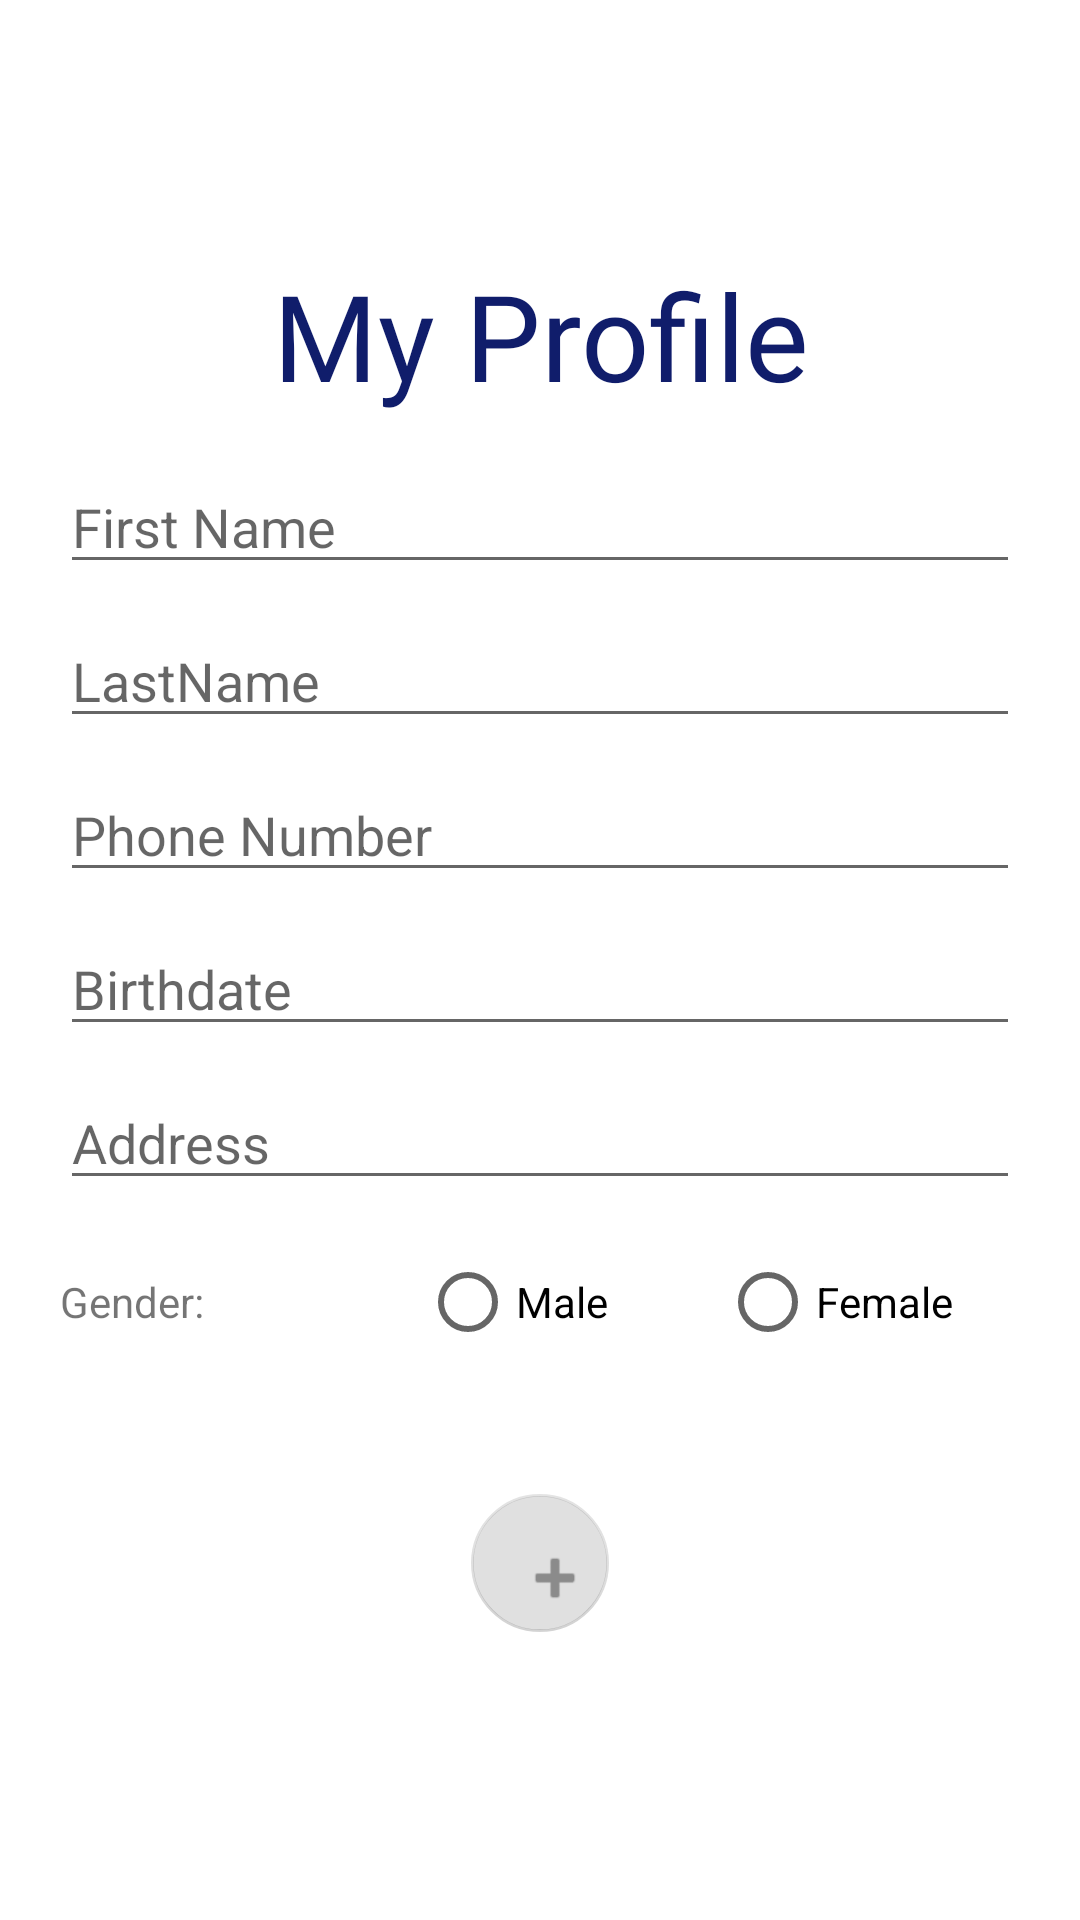

Where icons sit on this 1080 × 1920 app screen, as (x1, y1, x2, y2):
add: (471, 1494, 609, 1632)
